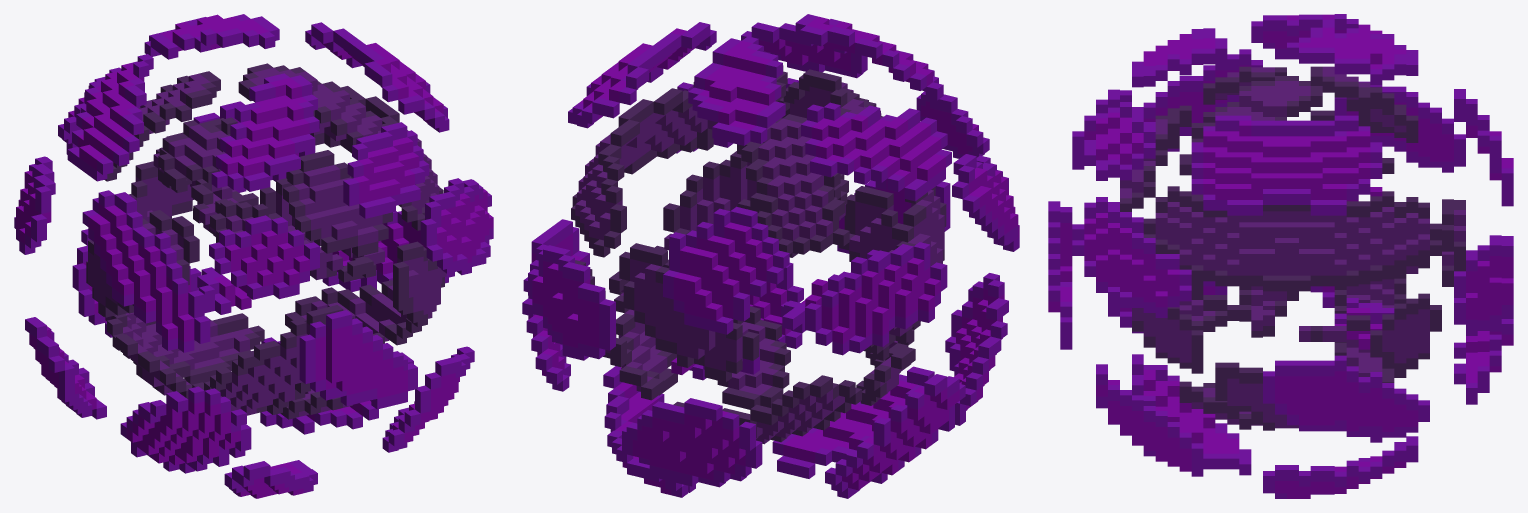
File: калапс.obj
3 renders of one model, left to right at view 1: azimuth 30°, elevation 25°; view 2: azimuth 150°, elevation 25°; view 3: azimuth 270°, elevation 25°, orthographic. The views are drawn at different scales.
Size of the model in its own units: 3.9 by 4 by 3.9.
1 material, 1 textured.
